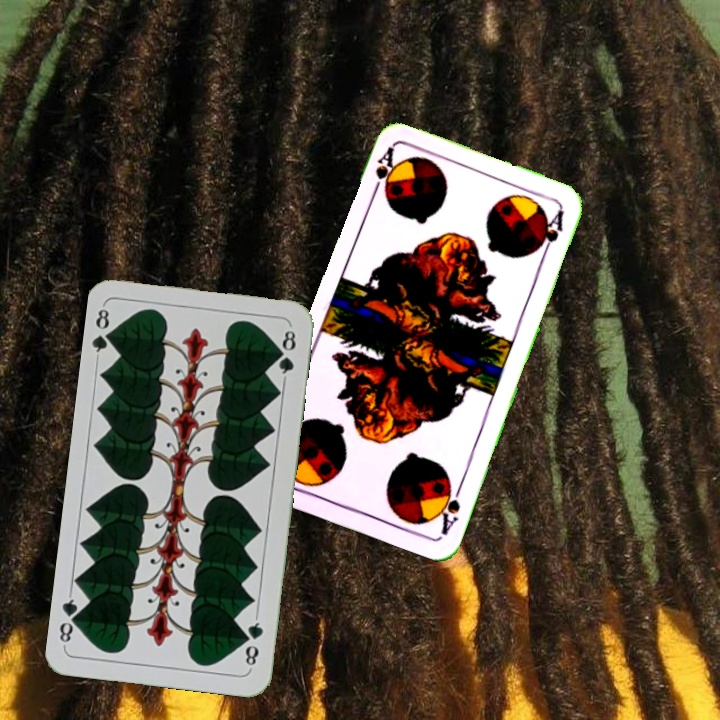G8: (89, 302, 118, 361), (240, 612, 266, 671)
SA: (433, 476, 465, 537), (367, 143, 397, 201)
